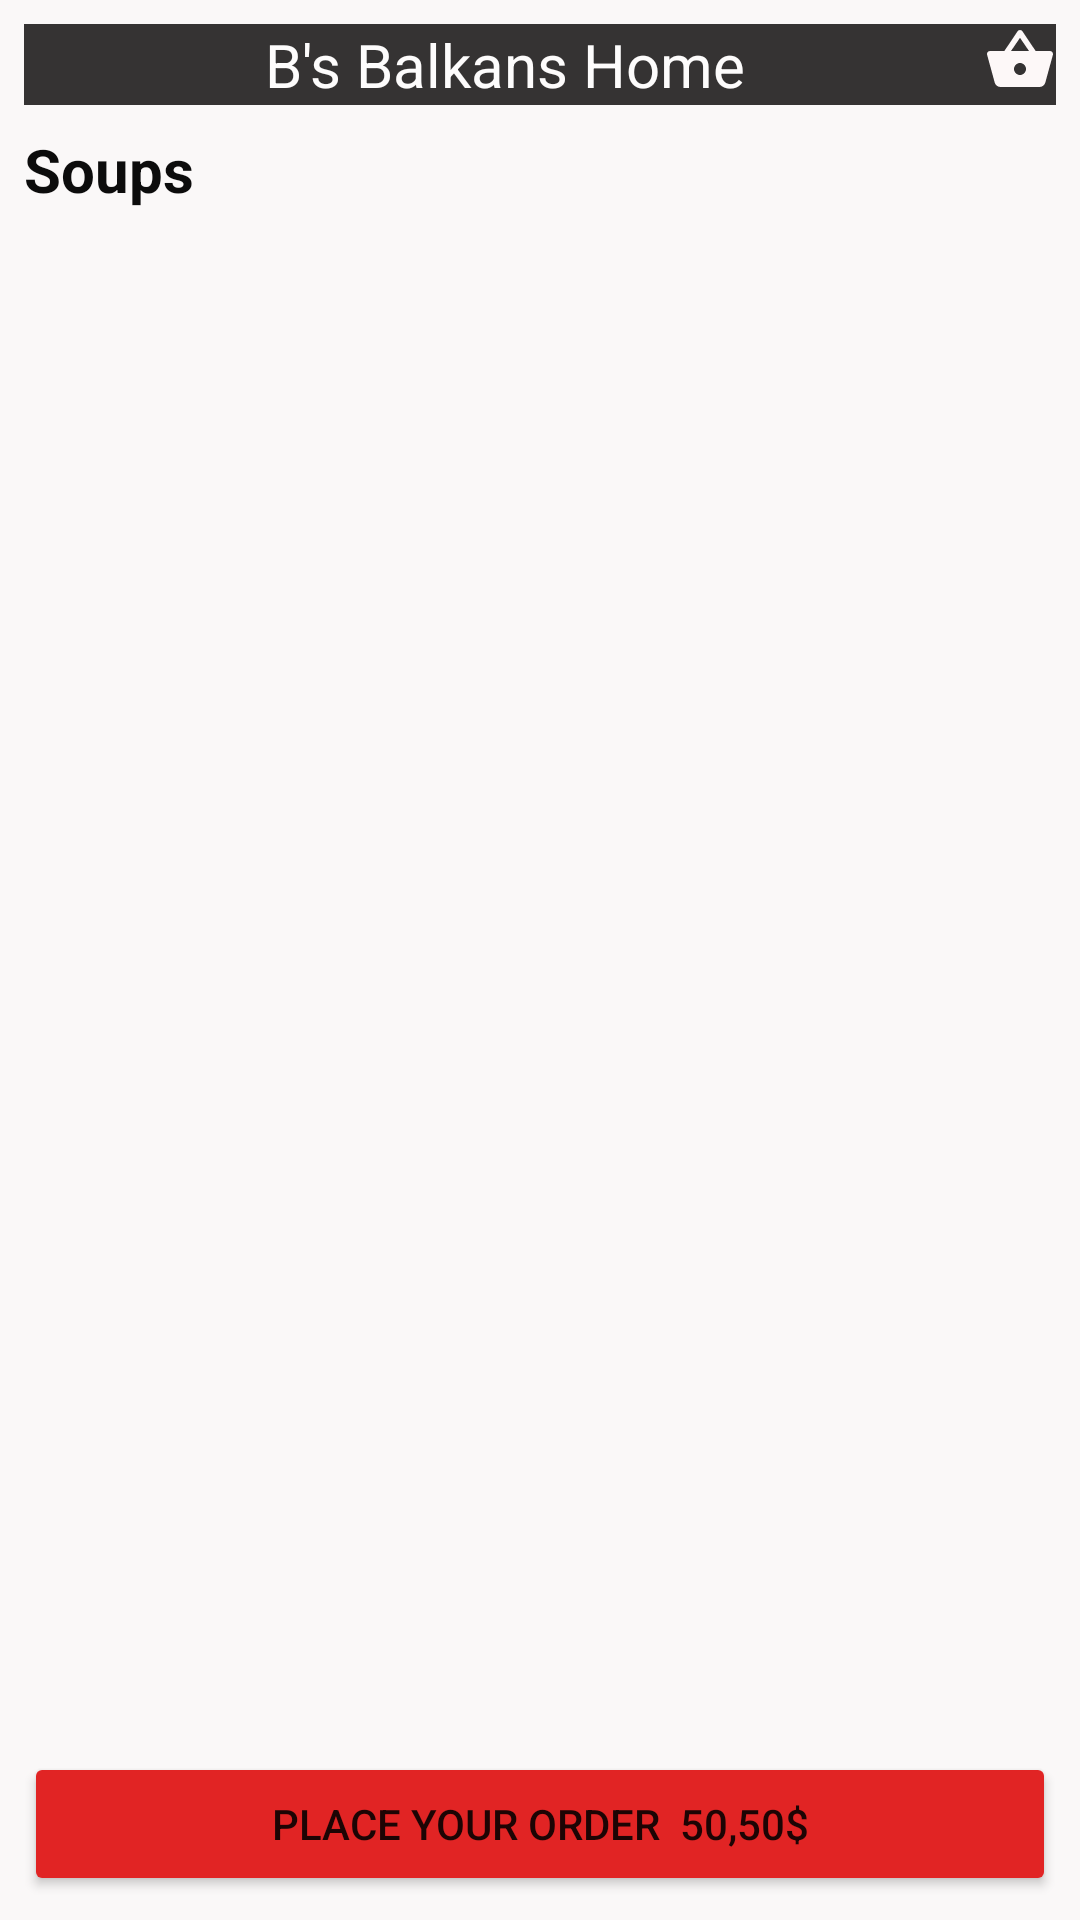

Icon bounding boxes for this 1080px×1920px phone screenshot, format (x1, y1, x2, y2):
shopping basket: (987, 30, 1053, 87)
